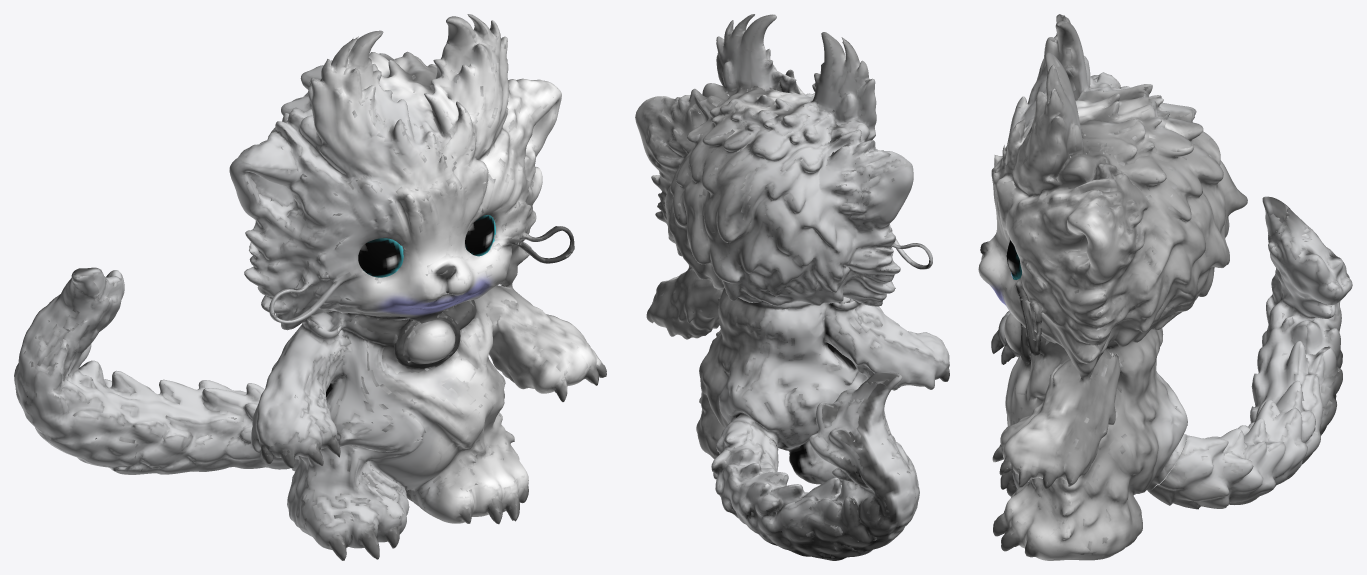
File: Mascot-White_ForAR_compressed.glb
The picture shows the model from 3 angles, left to right: view 1: azimuth 30°, elevation 25°; view 2: azimuth 150°, elevation 25°; view 3: azimuth 270°, elevation 25°; orthographic projection. The views are drawn at different scales.
Parts seen in each view (by area): view 1: WHITE; view 2: WHITE; view 3: WHITE.
Boxes of the visible parts, box(x1,y1,x2,y2) form: WHITE: box(14, 14, 606, 560); WHITE: box(635, 14, 949, 560); WHITE: box(978, 14, 1352, 560).
Size of the model in its own units: 1.33 by 1.46 by 1.02.
1 material, 1 textured.
